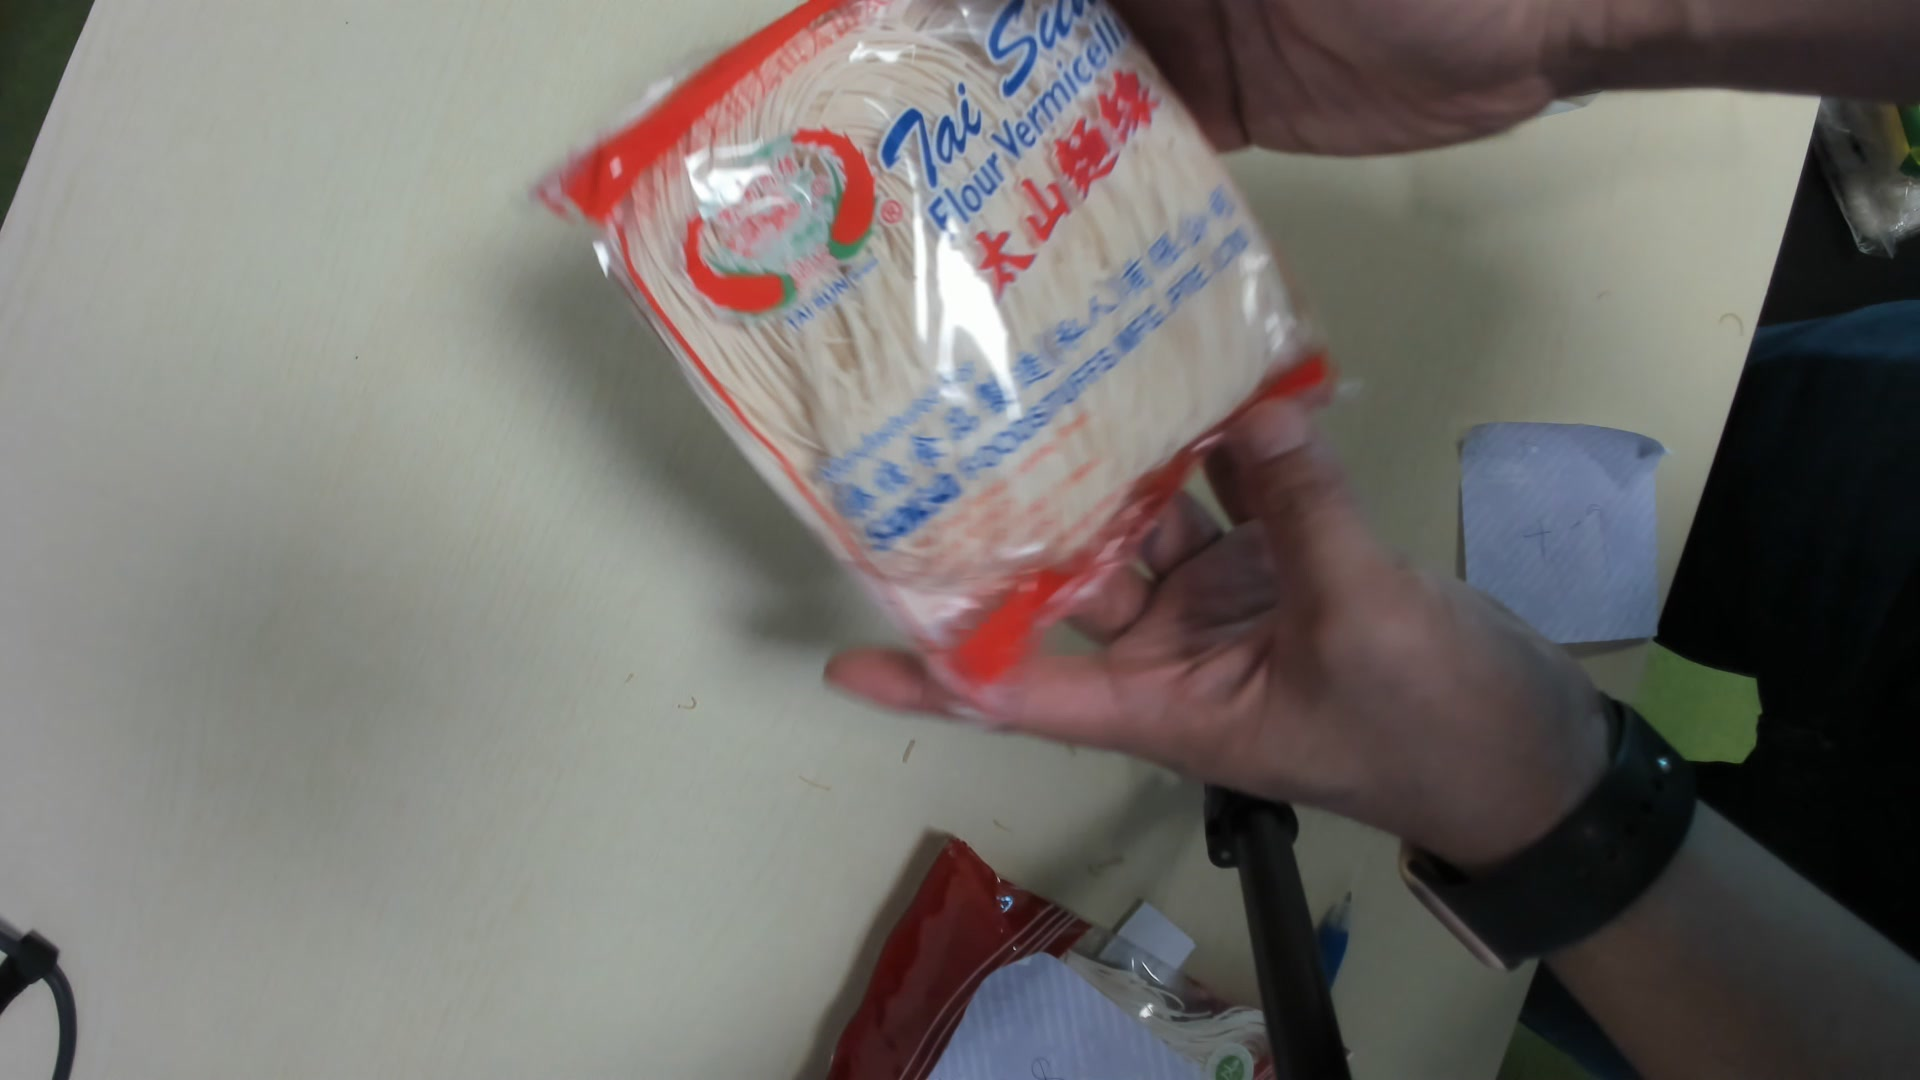BeeHoonVermicelli_100-199g_Halal_NonHealthy: (568, 9, 1361, 703)
